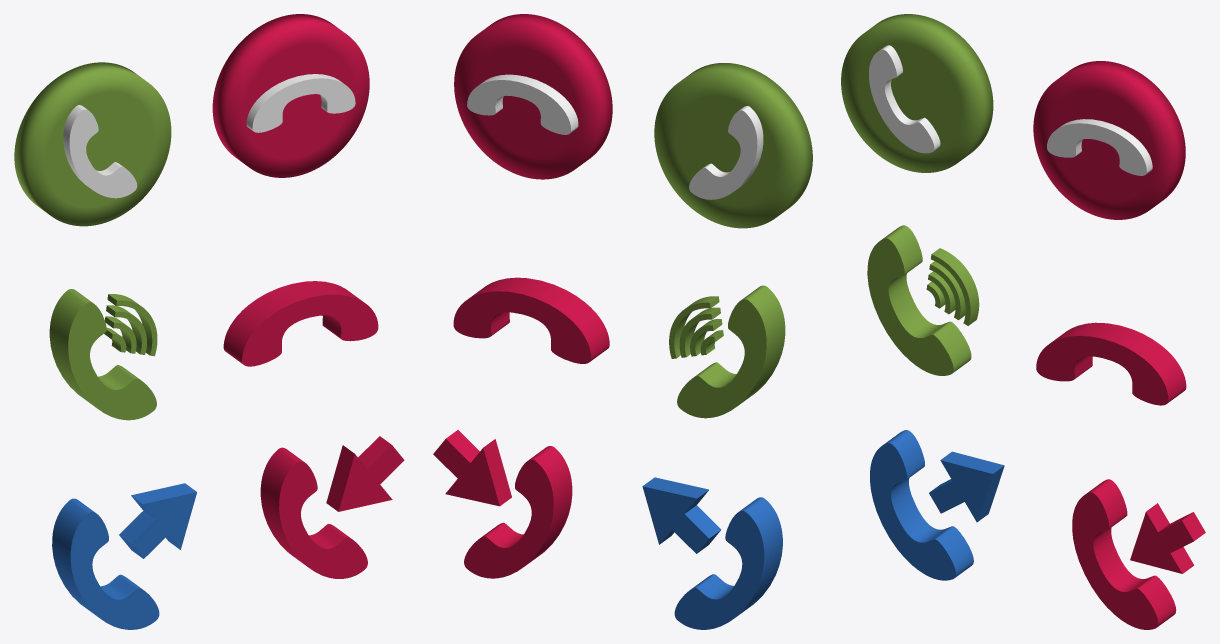
Rendered from phone.c4d.fbx.
3 views of the same model, side by side, from view 1: azimuth 30°, elevation 25°; view 2: azimuth 150°, elevation 25°; view 3: azimuth 330°, elevation 25° (orthographic). The views are drawn at different scales.
Parts seen in each view (by area): view 1: make_a_call, call_end, outcome_call, income_call, phone_ringing, end_call_2; view 2: call_end, make_a_call, outcome_call, income_call, phone_ringing, end_call_2; view 3: make_a_call, call_end, income_call, outcome_call, phone_ringing, end_call_2.
Part boxes in pixels (left/top/right/bottom): make_a_call: left=14, top=62, right=171, bottom=226; call_end: left=212, top=14, right=369, bottom=177; outcome_call: left=52, top=483, right=196, bottom=629; income_call: left=260, top=436, right=404, bottom=578; phone_ringing: left=49, top=289, right=157, bottom=420; end_call_2: left=223, top=281, right=378, bottom=366; call_end: left=454, top=14, right=612, bottom=179; make_a_call: left=654, top=63, right=812, bottom=228; outcome_call: left=642, top=477, right=782, bottom=629; income_call: left=433, top=430, right=572, bottom=578; phone_ringing: left=669, top=285, right=785, bottom=418; end_call_2: left=453, top=277, right=609, bottom=363; make_a_call: left=841, top=14, right=993, bottom=172; call_end: left=1033, top=61, right=1185, bottom=219; income_call: left=1072, top=479, right=1205, bottom=629; outcome_call: left=870, top=430, right=1004, bottom=580; phone_ringing: left=867, top=225, right=979, bottom=375; end_call_2: left=1036, top=322, right=1186, bottom=405.
Bounding box in the file's own units: 51.3 × 73.9 × 6.61.
Materials: 6 (6 with a texture image).
